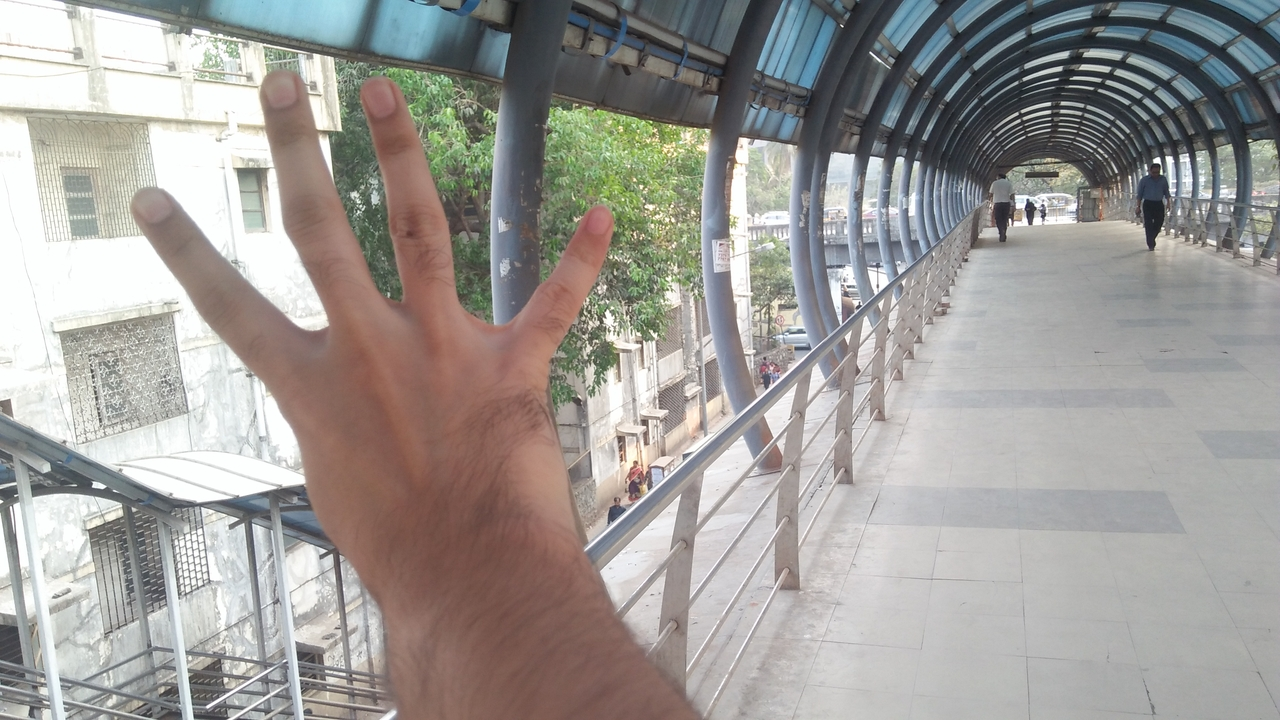fingertip: (350, 68, 410, 126), (248, 62, 308, 116), (126, 186, 186, 235), (568, 196, 618, 244)
